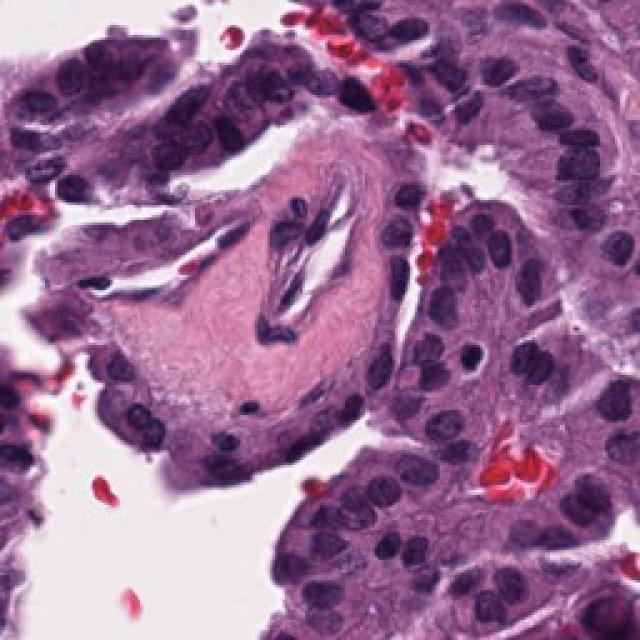abnormal: (554, 454, 626, 534), (495, 247, 567, 323), (479, 562, 569, 617), (410, 393, 478, 456), (301, 512, 369, 573), (573, 210, 640, 271), (585, 355, 640, 429), (499, 56, 573, 110), (382, 452, 456, 504), (543, 137, 618, 181), (422, 274, 473, 334), (501, 324, 543, 382), (533, 354, 568, 401)
